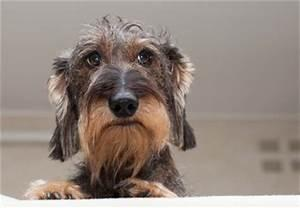dog: (23, 13, 196, 199)
